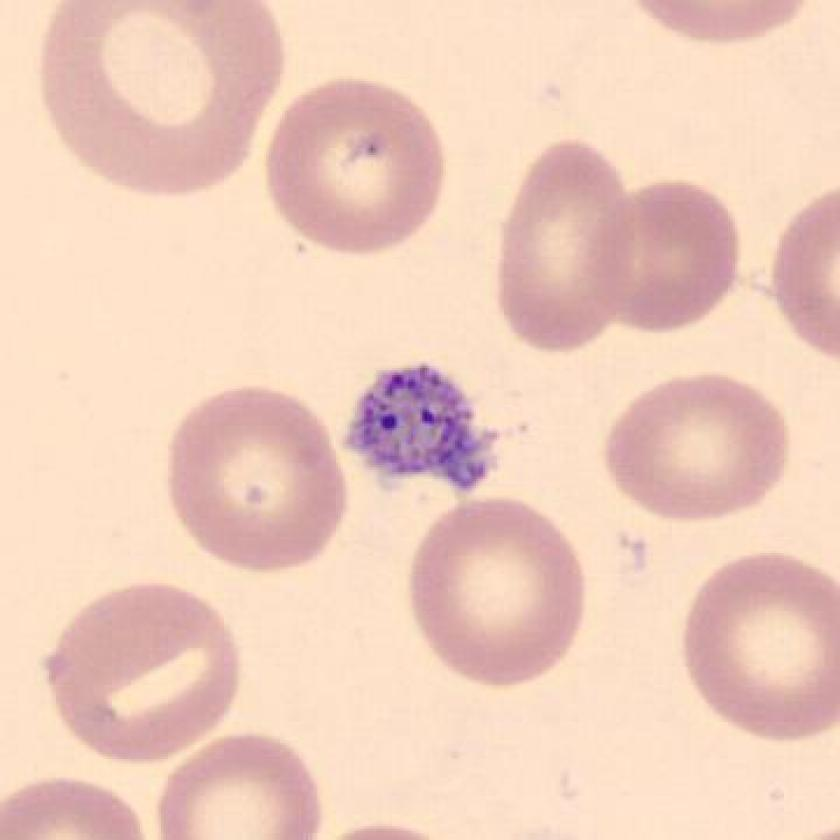platelets: (335, 350, 500, 494)
